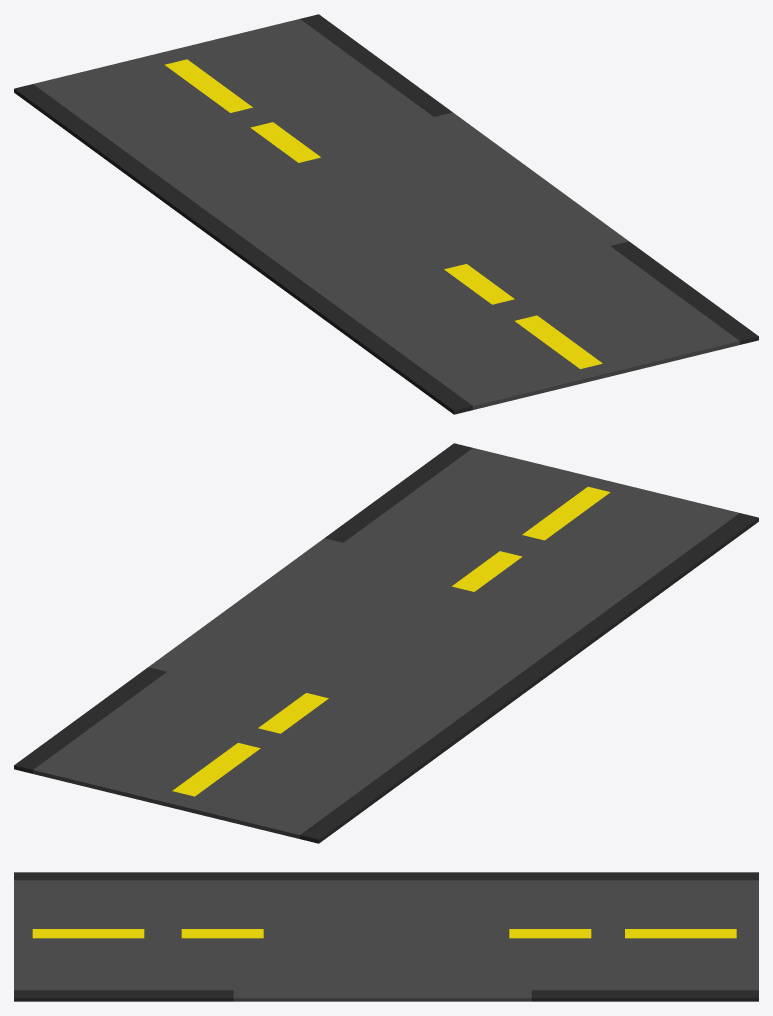
The model's file is road_in_center.obj.
The picture shows the model from 3 angles, top to bottom: view 1: azimuth 30°, elevation 25°; view 2: azimuth 150°, elevation 25°; view 3: azimuth 270°, elevation 25°; orthographic projection. The views are drawn at different scales.
Bounding box in the file's own units: 8 × 0.1 × 20.
Materials: 1 (1 with a texture image).
